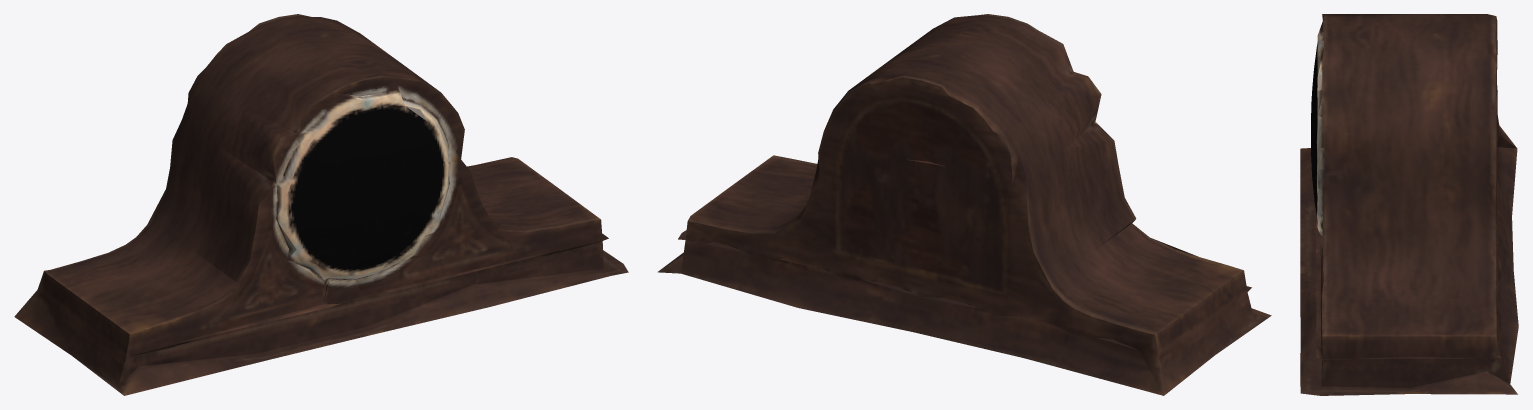
Rendered from clock_mantel.glb.
The picture shows the model from 3 angles, left to right: view 1: azimuth 30°, elevation 25°; view 2: azimuth 150°, elevation 25°; view 3: azimuth 270°, elevation 25°; orthographic projection.
Visible parts, largest first — view 1: mesh; view 2: mesh; view 3: mesh.
Part boxes in pixels (x1,y1,x2,y2): mesh: (14, 14, 628, 395); mesh: (657, 14, 1271, 395); mesh: (1300, 14, 1518, 395).
Bounding box in the file's own units: 0.348 × 0.1609 × 0.1295.
1 material, 1 textured.
